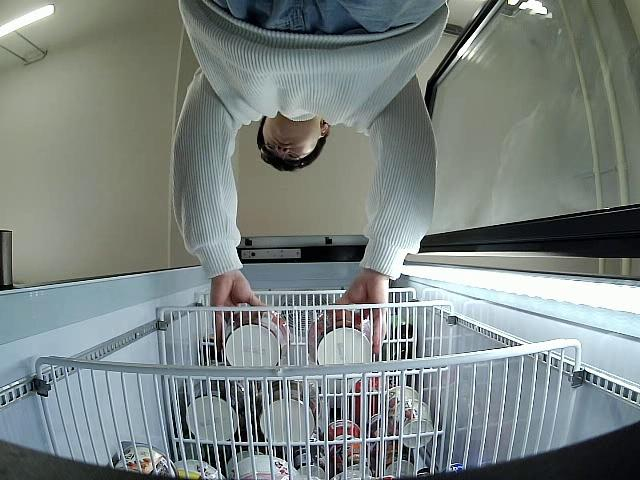00_hand: (334, 270, 390, 354), (209, 271, 269, 335)
01_shinRamen_L: (221, 306, 292, 368), (306, 307, 374, 364)
